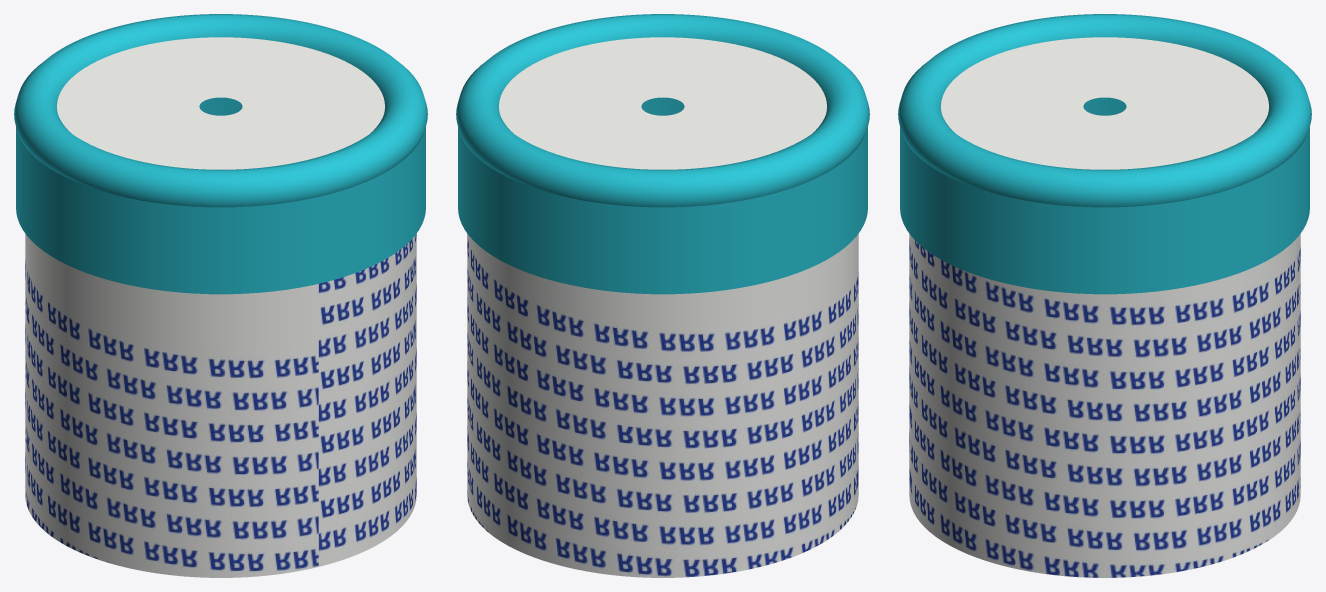
The picture shows the model from 3 angles, left to right: view 1: azimuth 30°, elevation 25°; view 2: azimuth 150°, elevation 25°; view 3: azimuth 270°, elevation 25°; orthographic projection.
Visible parts, largest first — view 1: E30-H114; view 2: E30-H114; view 3: E30-H114.
Boxes of the visible parts, box(x1,y1,x2,y2) form: E30-H114: box(14, 14, 427, 577); E30-H114: box(456, 14, 869, 577); E30-H114: box(898, 14, 1311, 577).
Size of the model in its own units: 0.11 by 0.1177 by 0.11.
6 materials, 1 textured.
